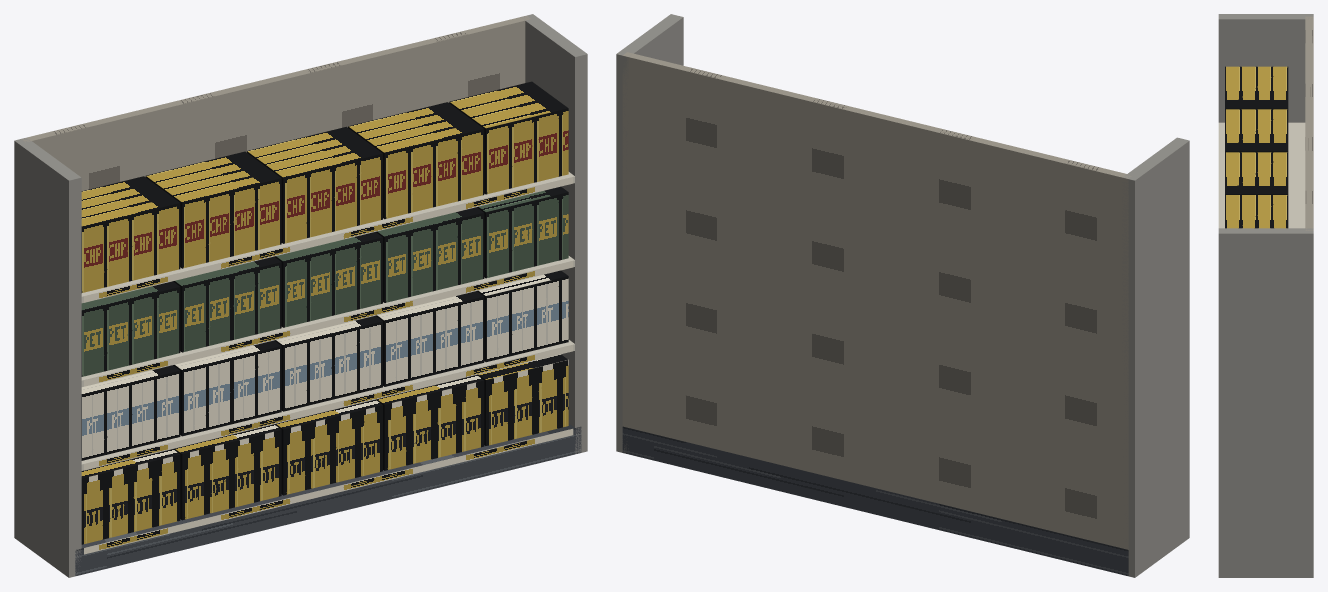
The model's file is COM_WallShelf_Mart.glb.
3 renders of one model, left to right at view 1: azimuth 30°, elevation 25°; view 2: azimuth 150°, elevation 25°; view 3: azimuth 270°, elevation 25°, orthographic. The views are drawn at different scales.
Visible parts, largest first — view 1: COM_WallShelf_Mart_Mesh; view 2: COM_WallShelf_Mart_Mesh; view 3: COM_WallShelf_Mart_Mesh.
Part boxes in pixels (box(x1,y1,x2,y2)): COM_WallShelf_Mart_Mesh: box(14, 14, 587, 577); COM_WallShelf_Mart_Mesh: box(616, 14, 1189, 577); COM_WallShelf_Mart_Mesh: box(1218, 14, 1313, 577).
Size of what is drawn, in the model's own units: 2.46 by 1.8 by 0.451.
1 material, 1 textured.
